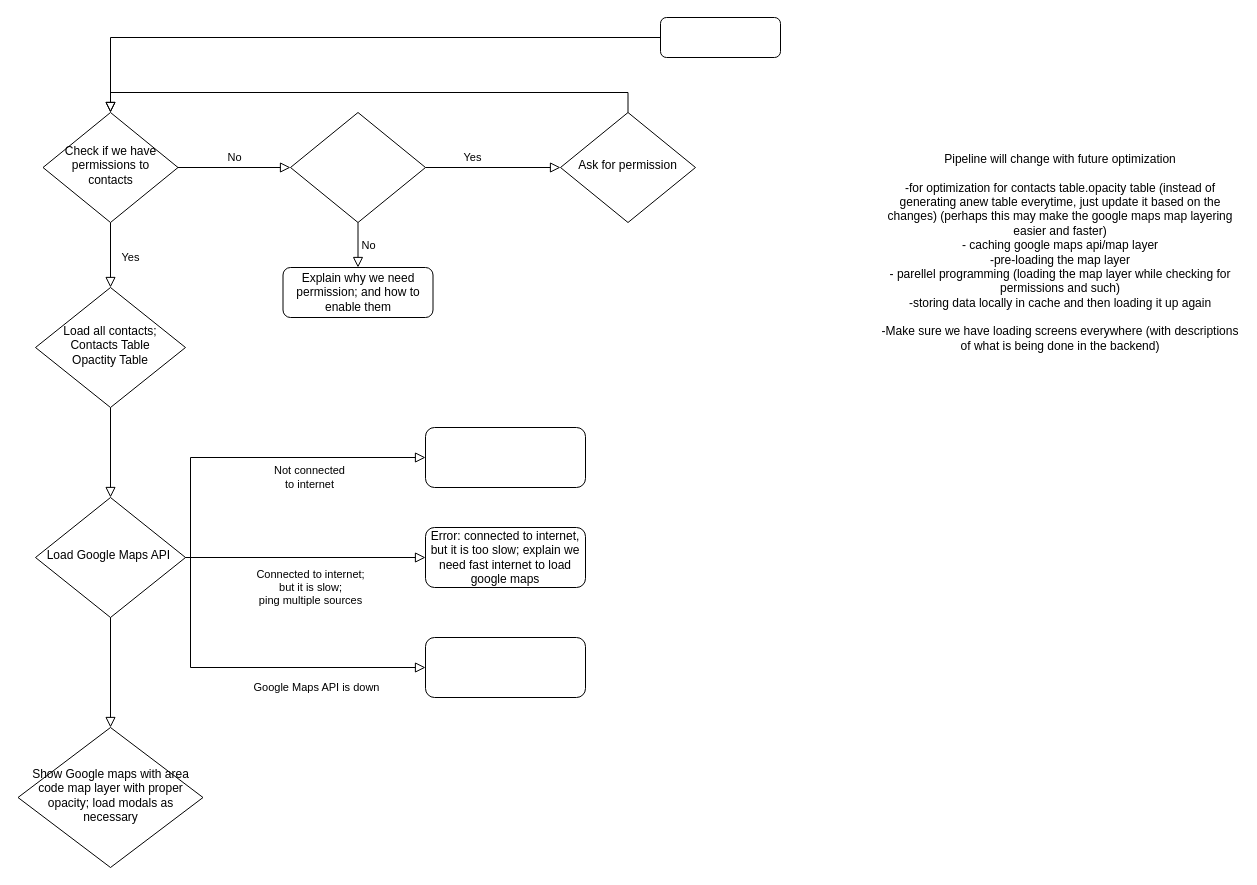
The diagram is 1257 pixels wide and 885 high, and some of its shapes have lost their labels. Here are the shapes that lost their labels. From the top down, the centre of each, then its label:
At (x=720, y=37): "User Opens App".
At (x=358, y=167): "Can we ask for permissions?".
At (x=505, y=457): "Error: not connected to internet; explain we need internet to load google maps".
At (x=505, y=667): "Error: Google Maps API is down; try again later".
